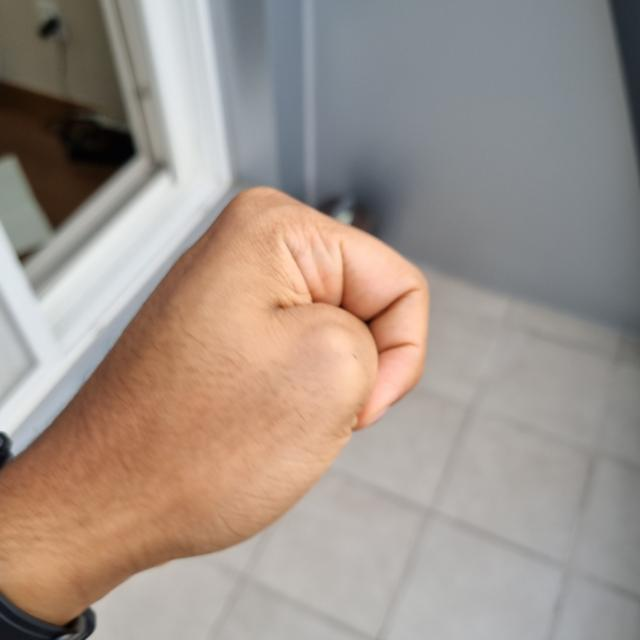Rock: (39, 192, 429, 560)
